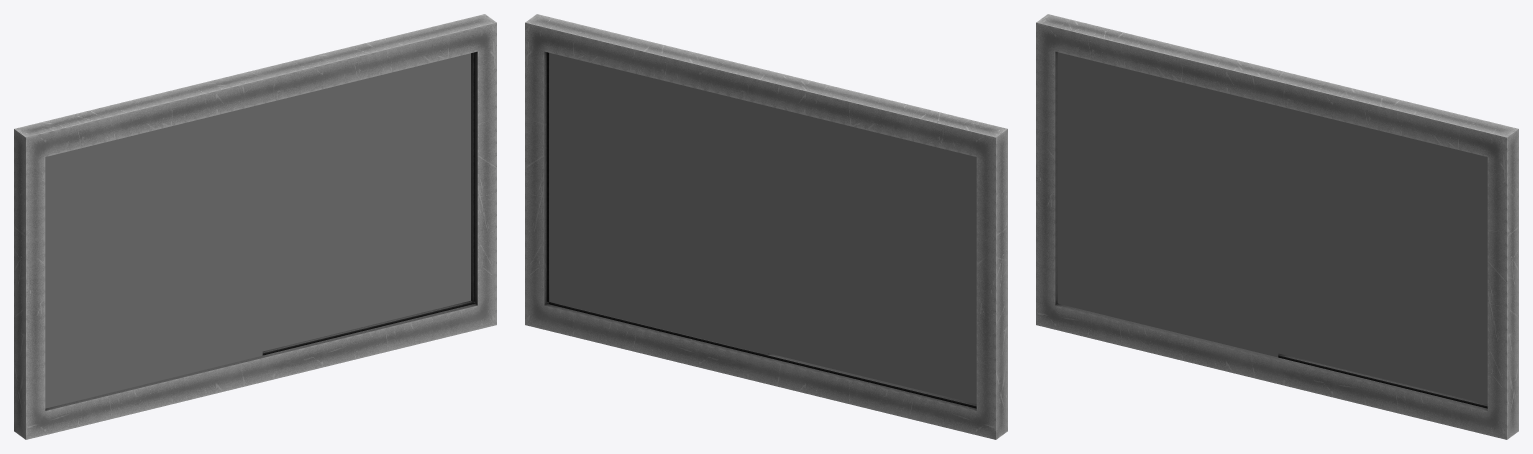
The model's file is VentanaInterna.FBX.
The picture shows the model from 3 angles, left to right: view 1: azimuth 30°, elevation 25°; view 2: azimuth 150°, elevation 25°; view 3: azimuth 330°, elevation 25°; orthographic projection.
Parts seen in each view (by area): view 1: VidrioVentanaInterna, VidrioVentanaInterna001, VentanaInterna; view 2: VidrioVentanaInterna001, VidrioVentanaInterna, VentanaInterna; view 3: VidrioVentanaInterna, VidrioVentanaInterna001, VentanaInterna.
Part boxes in pixels (x1,y1,x2,y2): VidrioVentanaInterna: (45,104,262,408); VidrioVentanaInterna001: (262,53,470,351); VentanaInterna: (14,14,496,439); VidrioVentanaInterna001: (549,53,767,354); VidrioVentanaInterna: (768,106,976,403); VentanaInterna: (525,14,1007,439); VidrioVentanaInterna: (1057,52,1278,357); VidrioVentanaInterna001: (1278,106,1487,404); VentanaInterna: (1036,14,1518,439).
Size of the model in its own units: 228 by 140 by 10.
Materials: 1 (1 with a texture image).
